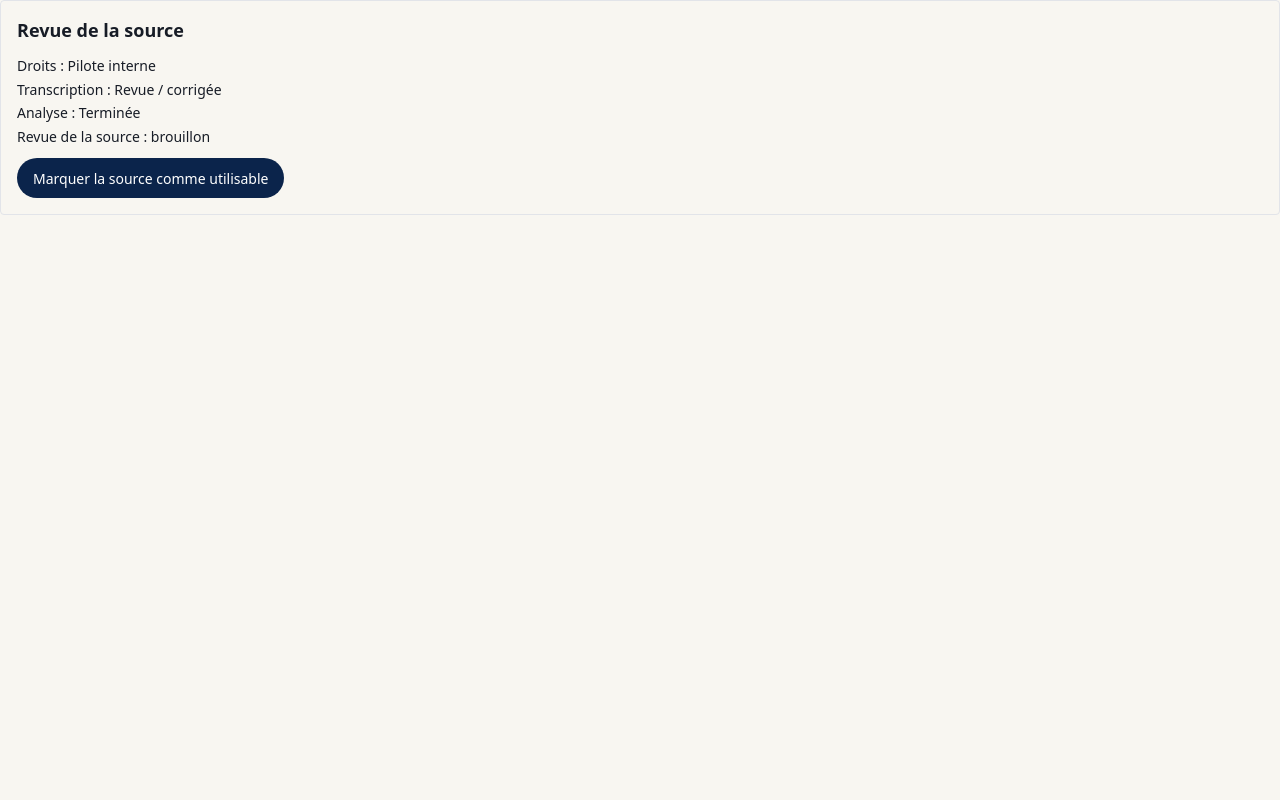
Scenario: explicit source review › displays server refusal SOURCE_NOT_AUDIO
Click the button "Marquer la source comme utilisable". click: point(151, 178)
box: [17,158,284,198]
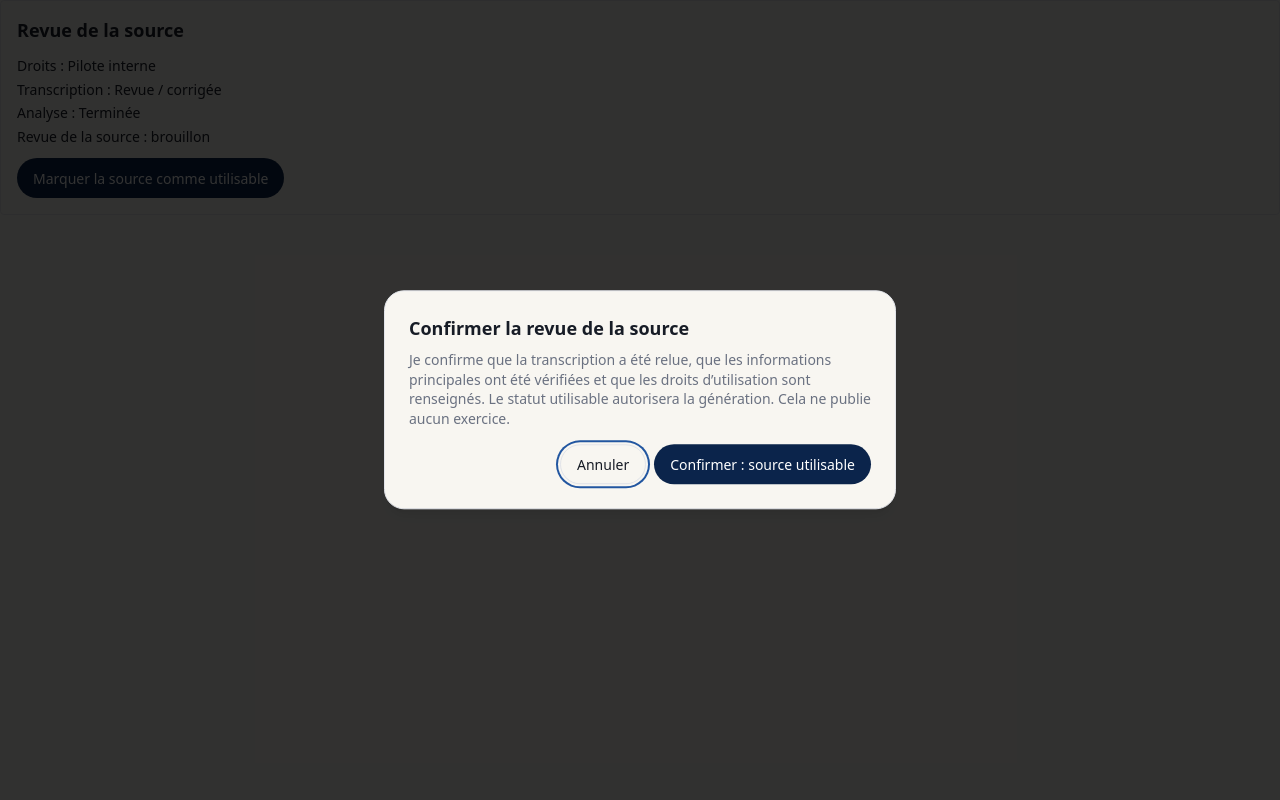
Expected: the button "Confirmer : source utilisable" is shown
Click the button "Confirmer : source utilisable". click: point(763, 465)
box: [654,445,871,485]
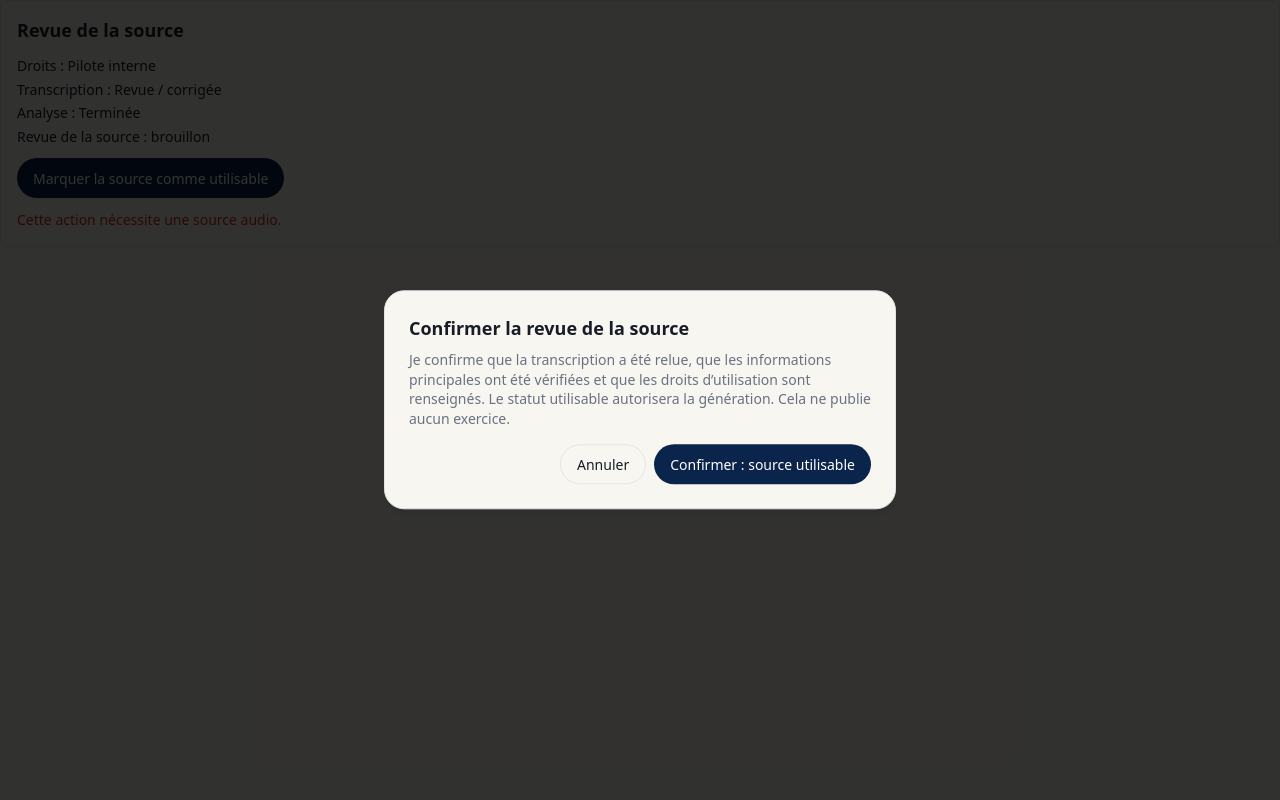
Expected: the message "Cette action nécessite une source audio." is shown, [17,210,282,229]
